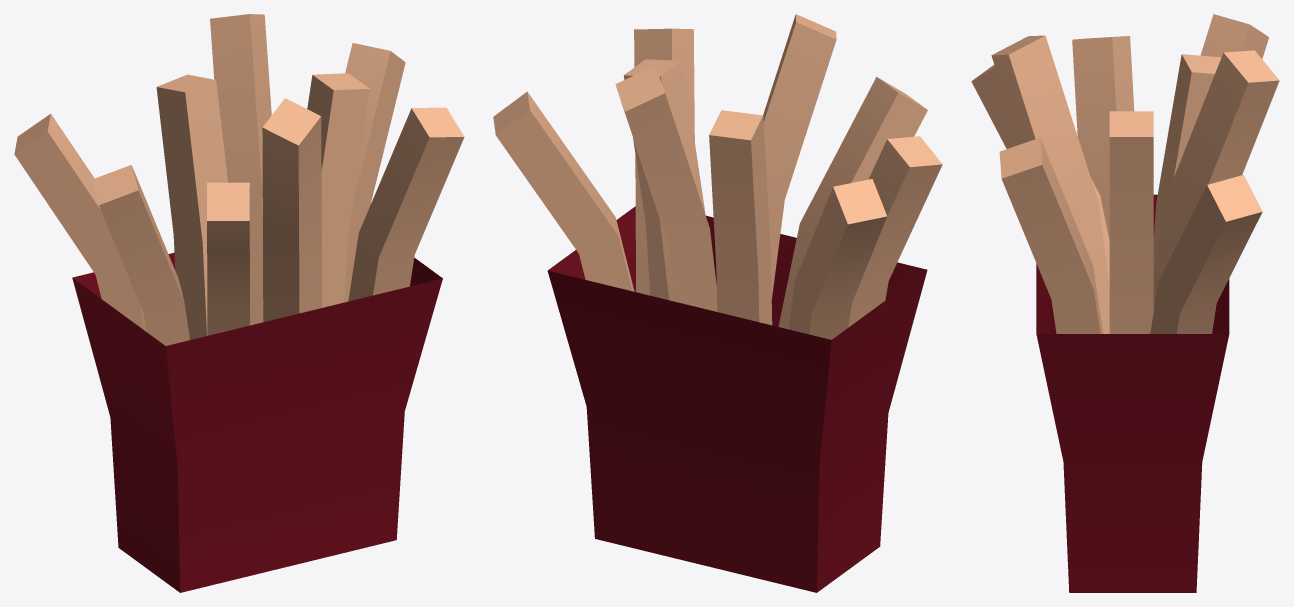
The model's file is Fries.fbx.
3 renders of one model, left to right at view 1: azimuth 30°, elevation 25°; view 2: azimuth 150°, elevation 25°; view 3: azimuth 270°, elevation 25°, orthographic. The views are drawn at different scales.
Parts seen in each view (by area): view 1: Fries; view 2: Fries; view 3: Fries.
Boxes of the visible parts, bbox=[...] form: Fries: bbox=[14, 14, 464, 592]; Fries: bbox=[493, 14, 942, 592]; Fries: bbox=[971, 14, 1279, 592].
Bounding box in the file's own units: 157 × 189 × 105.
